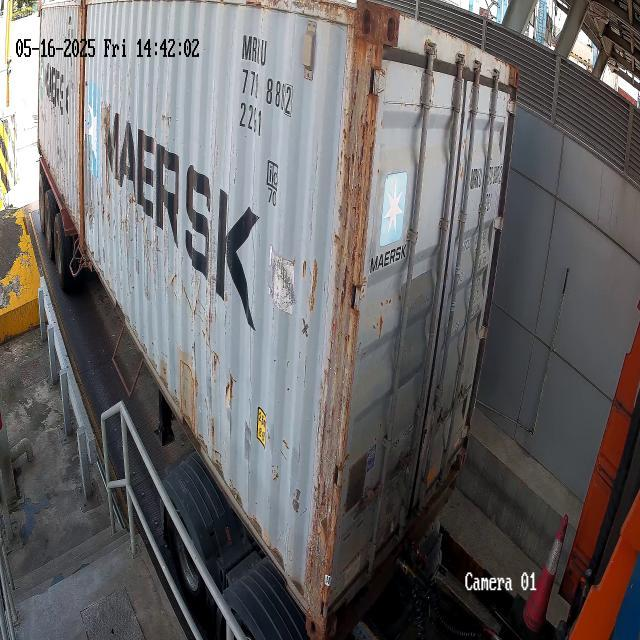ISO: (236, 100, 266, 142)
container_number: (242, 20, 296, 120)
